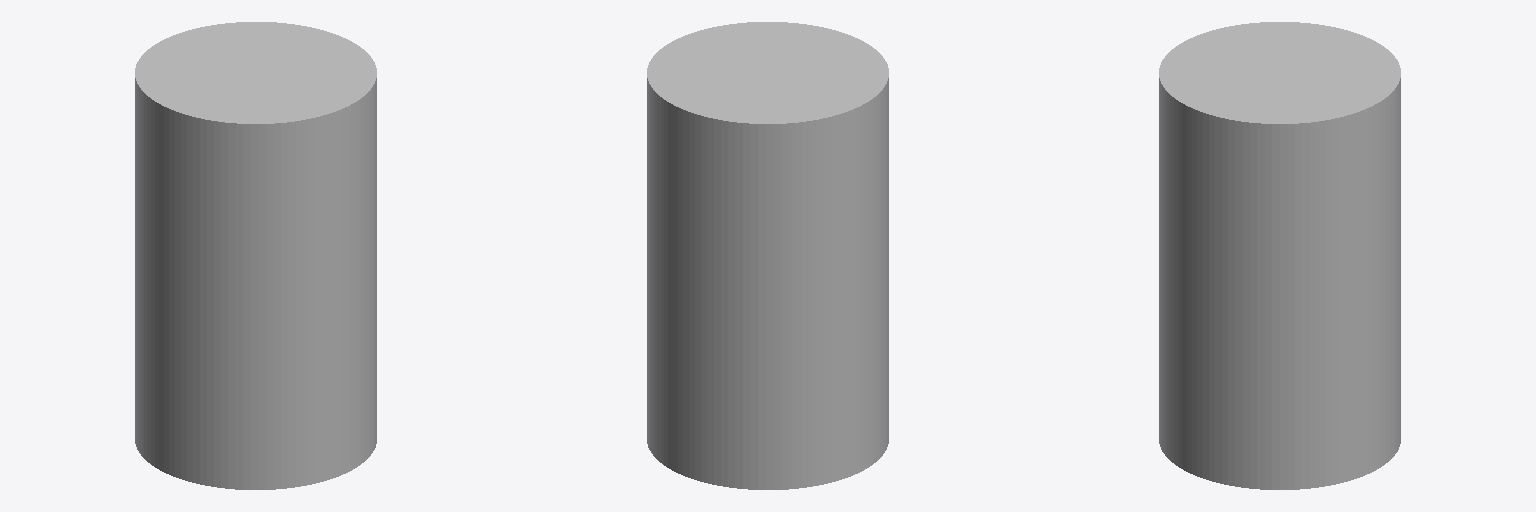
File: stream.obj
3 renders of one model, left to right at view 1: azimuth 30°, elevation 25°; view 2: azimuth 150°, elevation 25°; view 3: azimuth 270°, elevation 25°, orthographic.
Parts seen in each view (by area): view 1: Stream; view 2: Stream; view 3: Stream.
Boxes of the visible parts, <box> form: Stream: <box>135,22,376,489</box>; Stream: <box>647,22,888,489</box>; Stream: <box>1159,22,1400,489</box>.
Size of the model in its own units: 60 by 100 by 60.